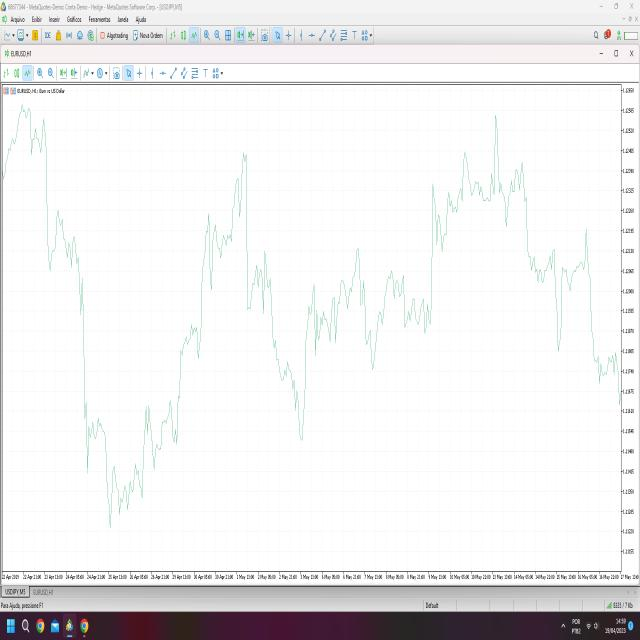bandeira_alta: (298, 268, 342, 463), (174, 318, 202, 441)
bandeira_baixa: (40, 112, 86, 288), (77, 270, 106, 475)
